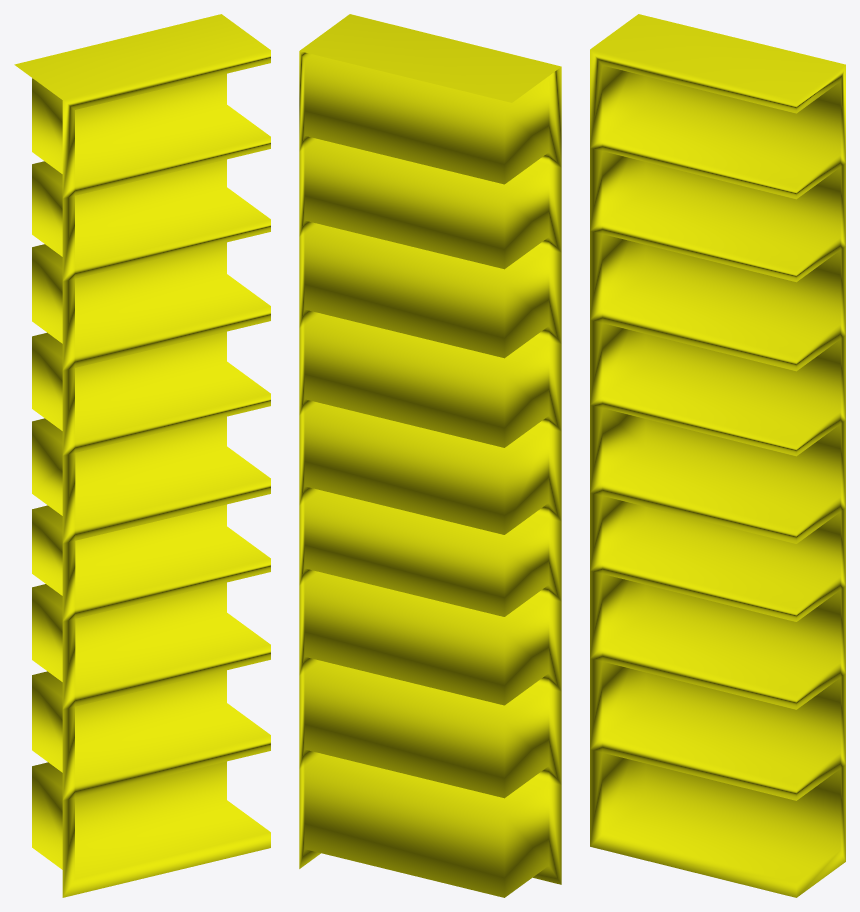
File: ESTANTERIA.fbx
3 renders of one model, left to right at view 1: azimuth 30°, elevation 25°; view 2: azimuth 150°, elevation 25°; view 3: azimuth 330°, elevation 25°, orthographic. The views are drawn at different scales.
Parts seen in each view (by area): view 1: ESTANTERIA; view 2: ESTANTERIA; view 3: ESTANTERIA.
Boxes of the visible parts, bbox=[...] form: ESTANTERIA: bbox=[14, 14, 270, 897]; ESTANTERIA: bbox=[299, 14, 561, 897]; ESTANTERIA: bbox=[590, 14, 845, 897].
Size of the model in its own units: 0.8646 by 3.18 by 0.3564.
